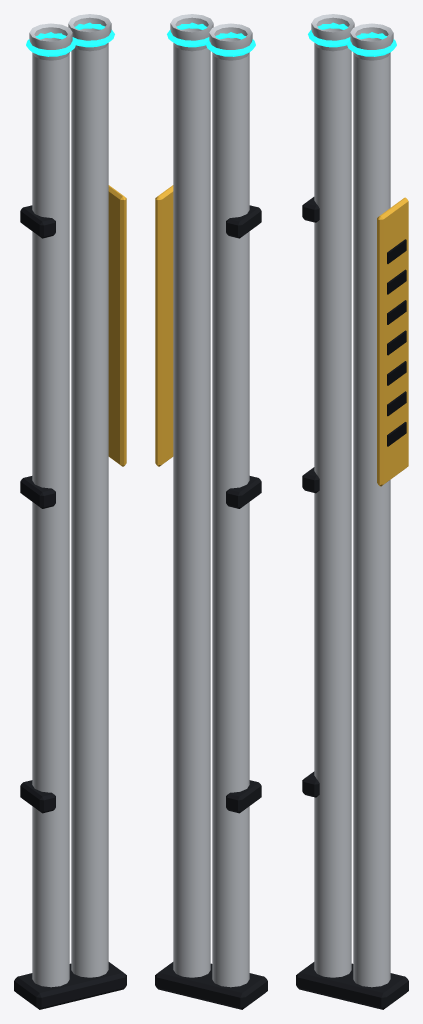
The model's file is stack_neon_twin.glb.
3 renders of one model, left to right at view 1: azimuth 30°, elevation 25°; view 2: azimuth 150°, elevation 25°; view 3: azimuth 330°, elevation 25°, orthographic.
Visible parts, largest first — view 1: stack_neon_twin_chrome, stack_neon_twin_paint_gold, stack_neon_twin_deco_body, stack_neon_twin_deco_neon; view 2: stack_neon_twin_chrome, stack_neon_twin_paint_gold, stack_neon_twin_deco_body, stack_neon_twin_deco_neon; view 3: stack_neon_twin_chrome, stack_neon_twin_paint_gold, stack_neon_twin_deco_body, stack_neon_twin_deco_trim, stack_neon_twin_deco_neon.
Part boxes in pixels (x1,y1,x2,y2): stack_neon_twin_chrome: (29,14,111,987); stack_neon_twin_paint_gold: (108,185,126,466); stack_neon_twin_deco_body: (14,205,126,1009); stack_neon_twin_deco_neon: (26,22,114,56); stack_neon_twin_chrome: (170,14,252,987); stack_neon_twin_paint_gold: (155,185,173,466); stack_neon_twin_deco_body: (155,205,267,1009); stack_neon_twin_deco_neon: (167,22,255,56); stack_neon_twin_chrome: (311,14,393,987); stack_neon_twin_paint_gold: (377,197,408,486); stack_neon_twin_deco_body: (296,197,408,1009); stack_neon_twin_deco_trim: (387,239,406,446); stack_neon_twin_deco_neon: (308,22,396,56).
Bounding box in the file's own units: 0.28 × 2.85 × 0.15.
